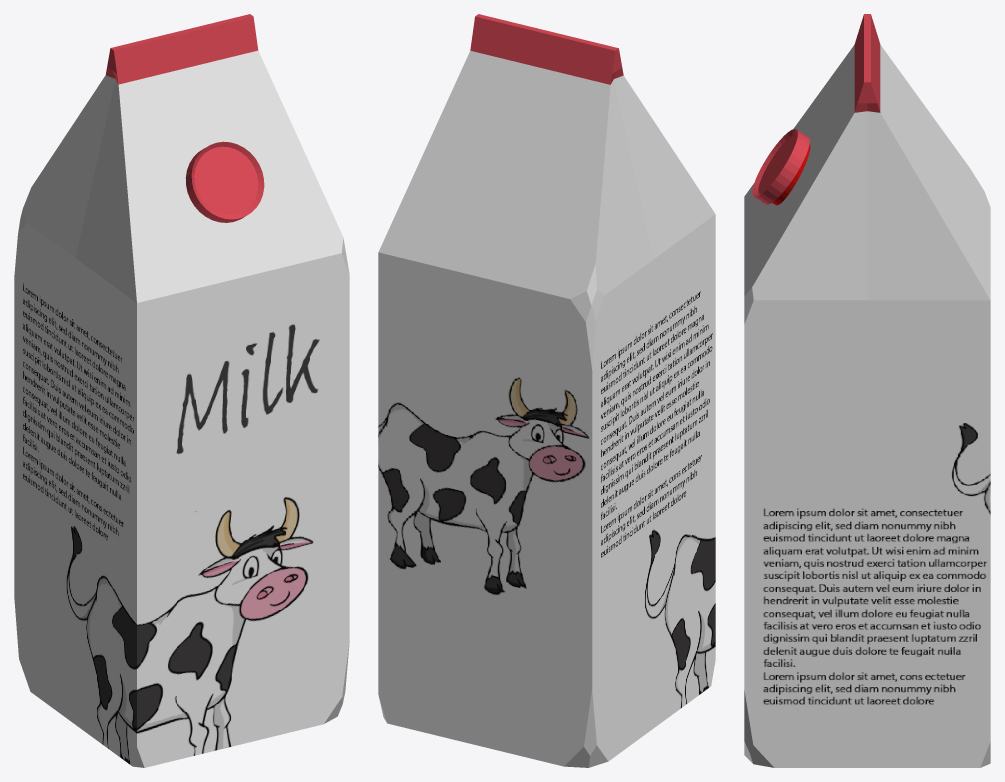
The model's file is Milk.fbx.
The picture shows the model from 3 angles, left to right: view 1: azimuth 30°, elevation 25°; view 2: azimuth 150°, elevation 25°; view 3: azimuth 270°, elevation 25°; orthographic projection.
Visible parts, largest first — view 1: Milk; view 2: Milk; view 3: Milk.
Boxes of the visible parts, box(x1,y1,x2,y2) form: Milk: box(14, 14, 349, 767); Milk: box(378, 14, 715, 767); Milk: box(744, 14, 990, 767).
Size of the model in its own units: 700 by 2096 by 700.
Materials: 4 (1 with a texture image).
